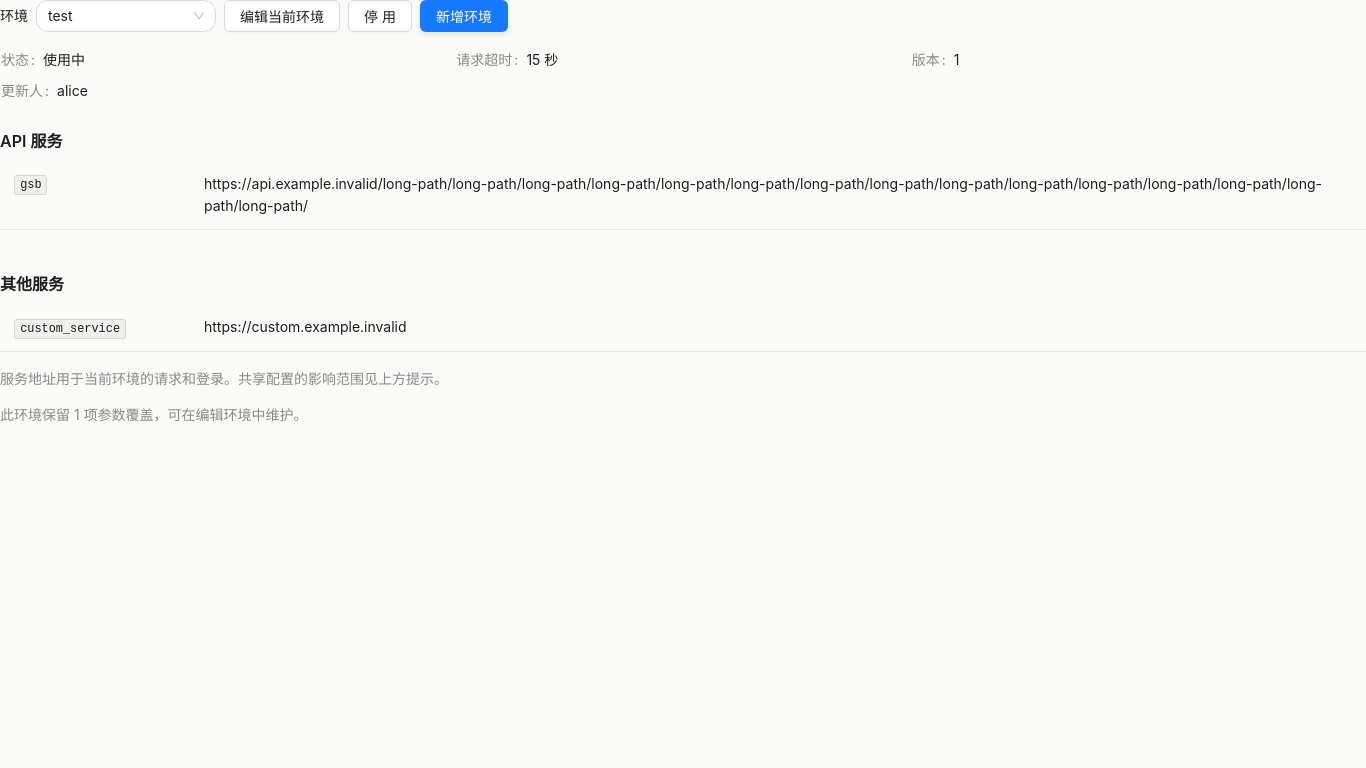
环境管理 › 先展示当前环境的完整地址，切换后只展示所选环境并保留未知服务
Check: the text "https://custom.example.invalid" is shown, box [204, 318, 407, 335]
Check: the heading "API 服务" is shown, box [0, 131, 62, 151]
Press the mouse on the element showing "test" at (126, 16), box [36, 0, 216, 32]
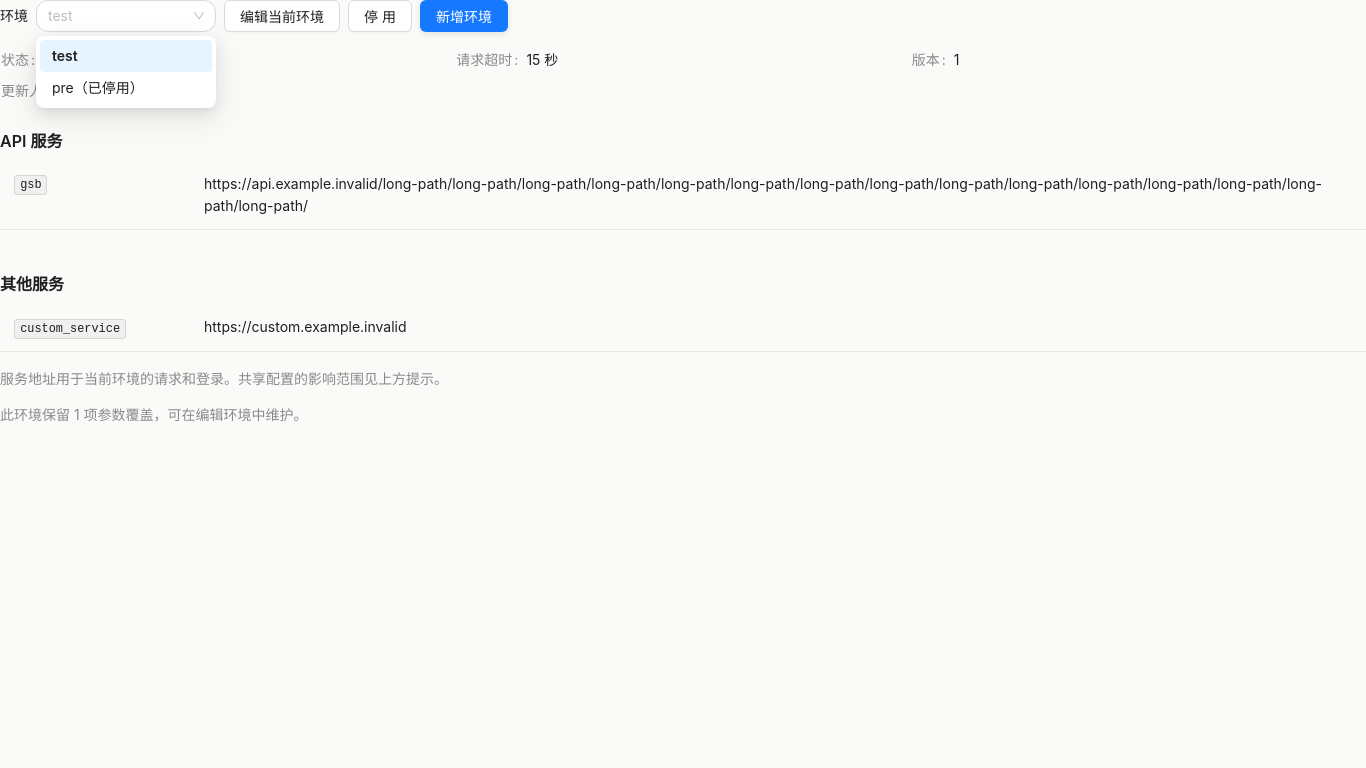
Click the text "pre（已停用）" at (98, 88), box [52, 79, 144, 96]
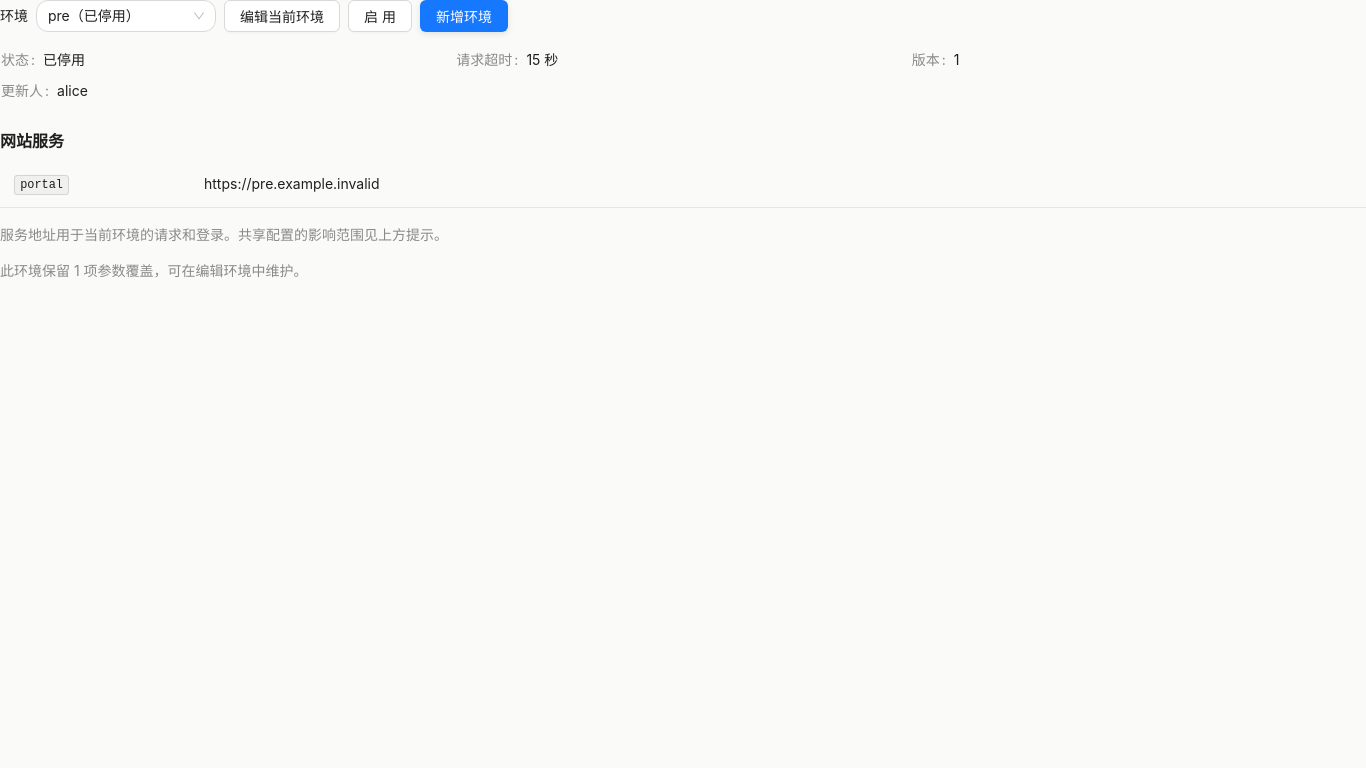
Check: the text "https://pre.example.invalid" is shown, box [204, 175, 380, 192]
Check: the heading "网站服务" is shown, box [0, 131, 64, 151]
Click the button with test id "env-edit-pre" at (282, 16), box [224, 0, 340, 32]
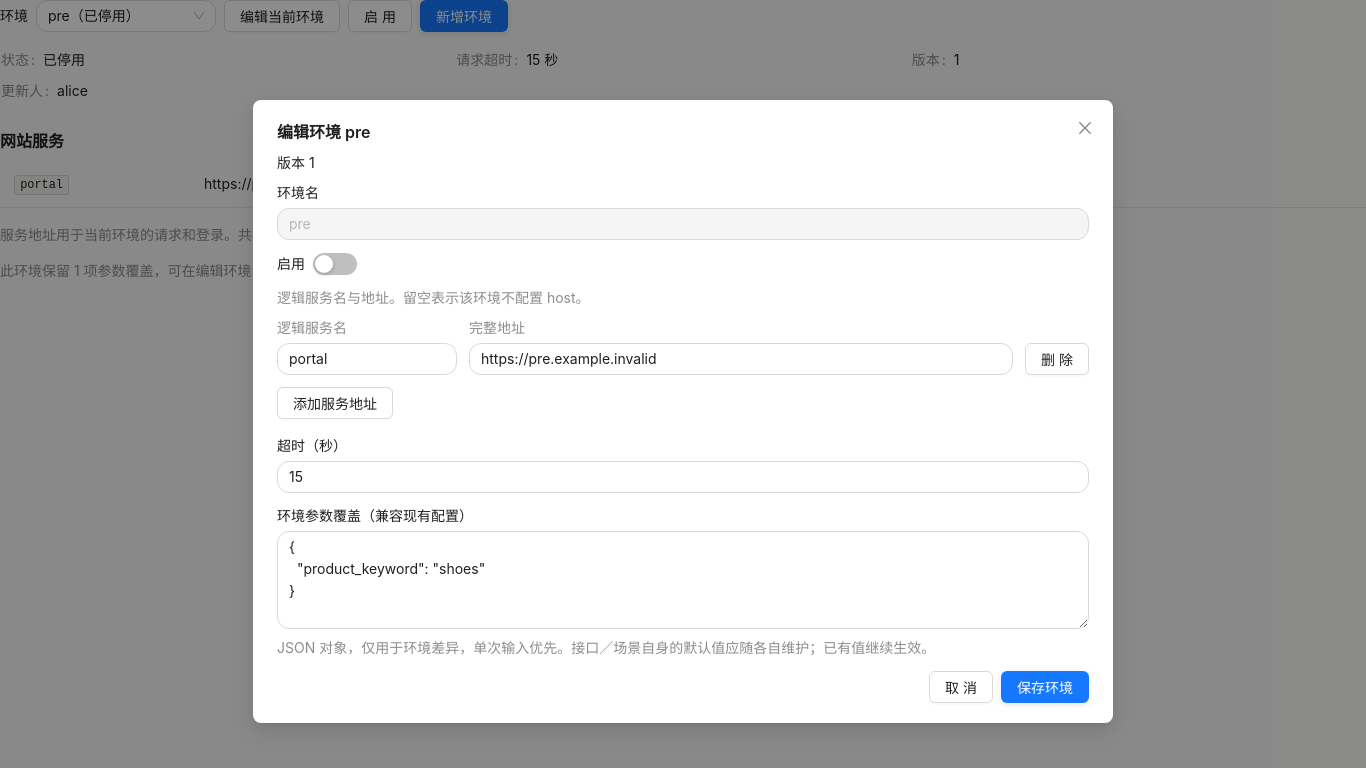
Check: the field named "环境名" holds "pre", box [277, 208, 1089, 240]
Check: the text box named "地址 1" holds "https://pre.example.invalid", box [469, 343, 1013, 375]
